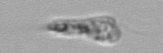plankton: (44, 12, 124, 48)
